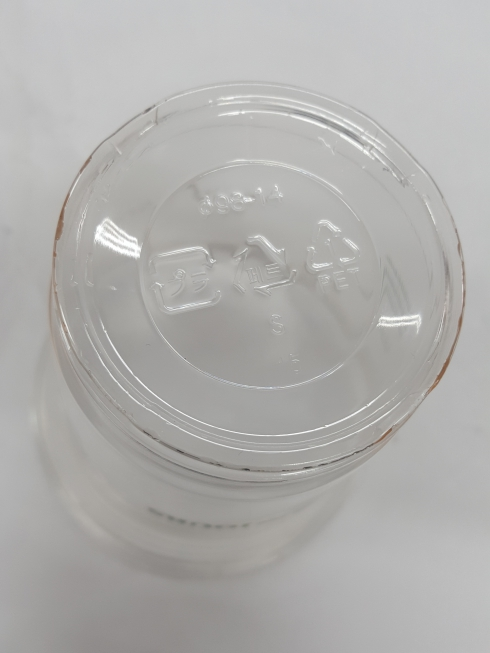recycle: (306, 215, 371, 297)
